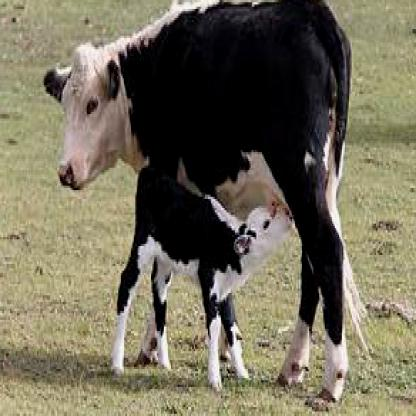cow: (43, 0, 352, 405), (111, 163, 291, 385)
